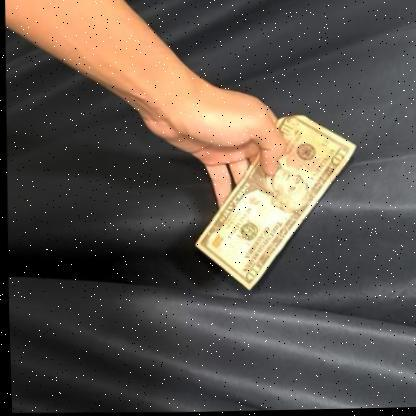ten-front: (186, 110, 362, 294)
